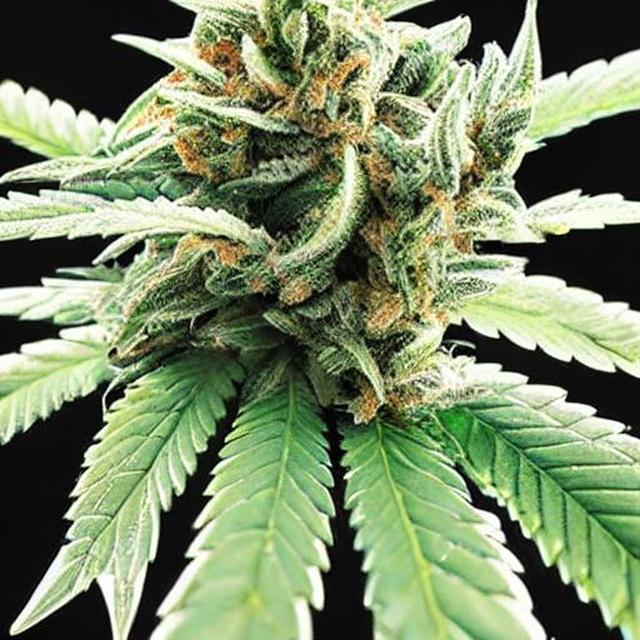Marijuana Plant: (17, 23, 640, 637)
